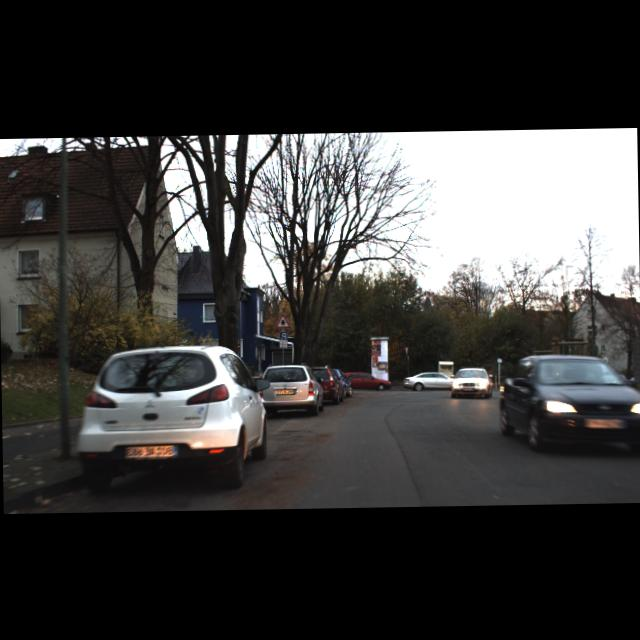danger: (274, 312, 292, 328)
